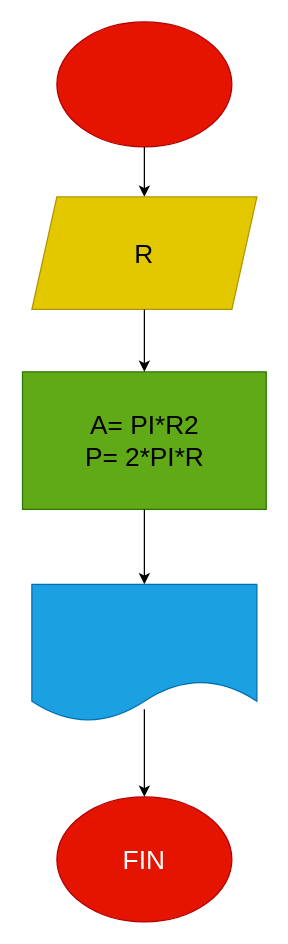
The diagram is 288 pixels wide and 944 high, and some of its shapes have lost their labels. Here are the shapes that lost their labels. From the top down, the centre of each, then its label:
At point (144, 84): "INICIO".
At point (144, 652): "A,P".
